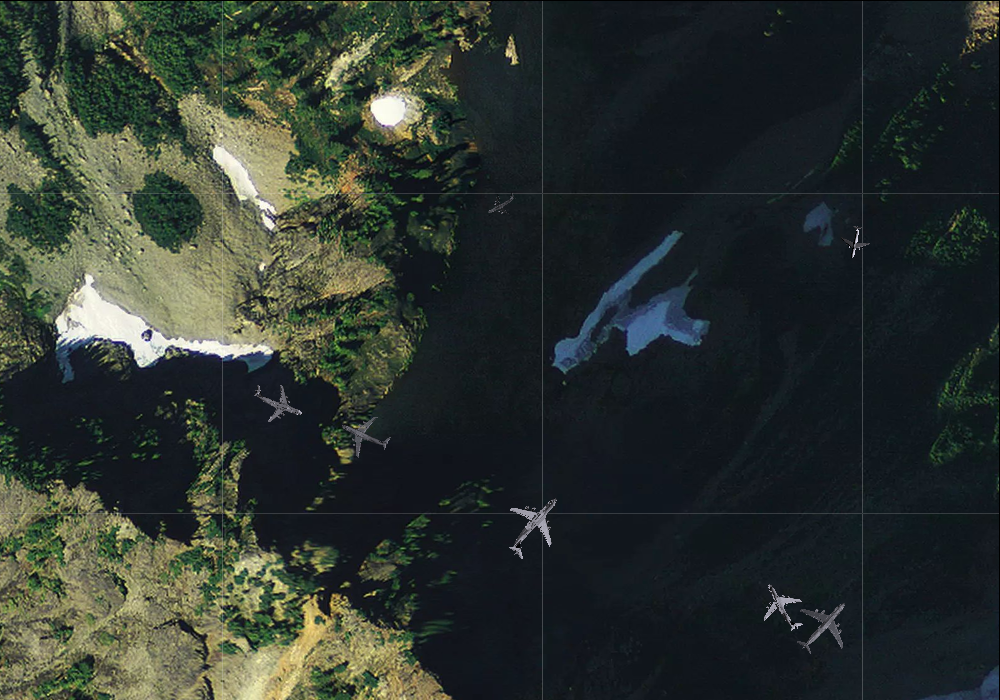plane: (487, 479, 582, 573), (781, 583, 866, 669), (749, 572, 817, 641), (331, 402, 398, 468), (244, 370, 311, 433), (480, 183, 522, 224), (836, 222, 873, 261)
